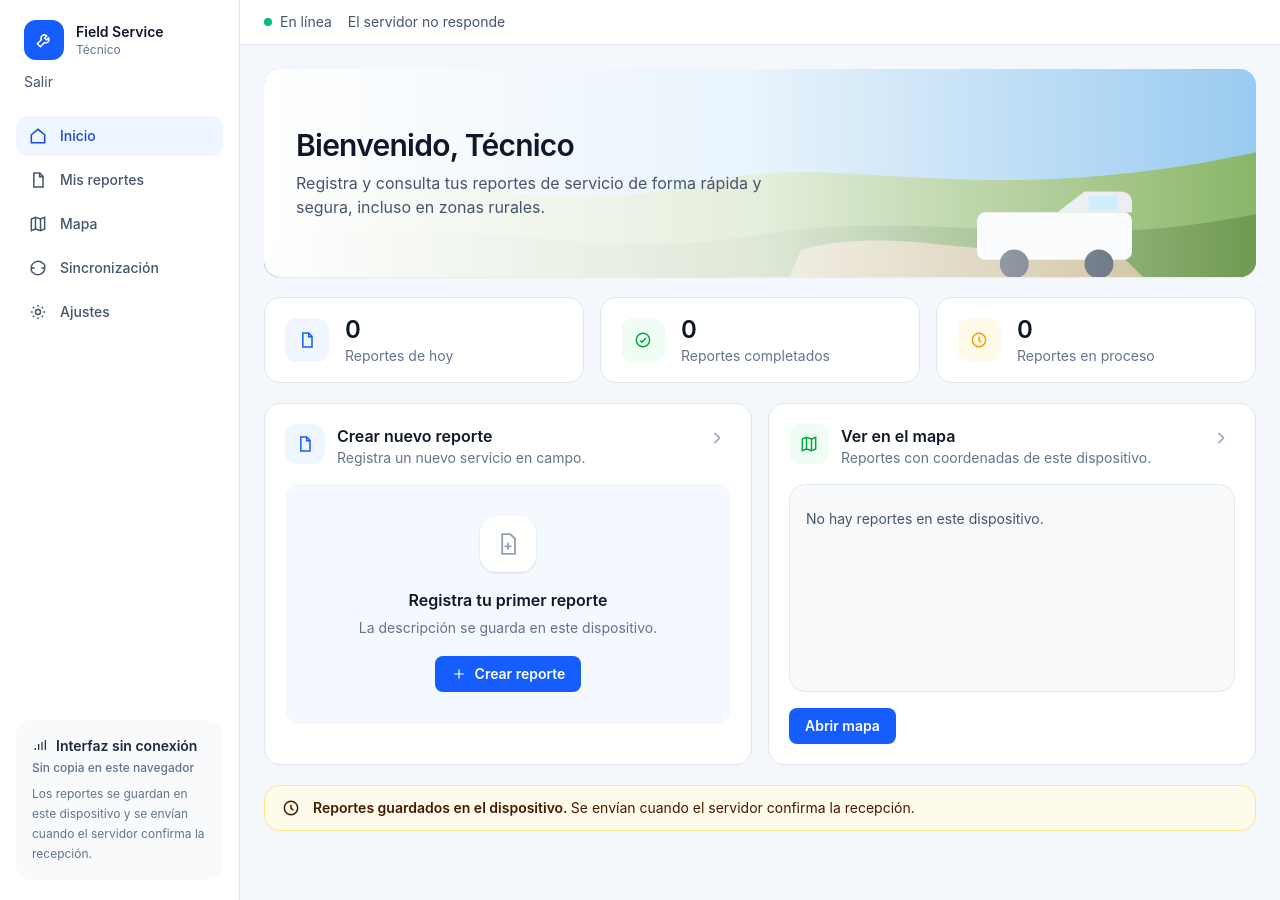
Test: App › abre Mis reportes sin inventar registros
Expected: the heading "Bienvenido, Técnico" is shown, [296,127,574,163]
Click the button "Mis reportes".
click(120, 180)  # box [16,160,223,200]
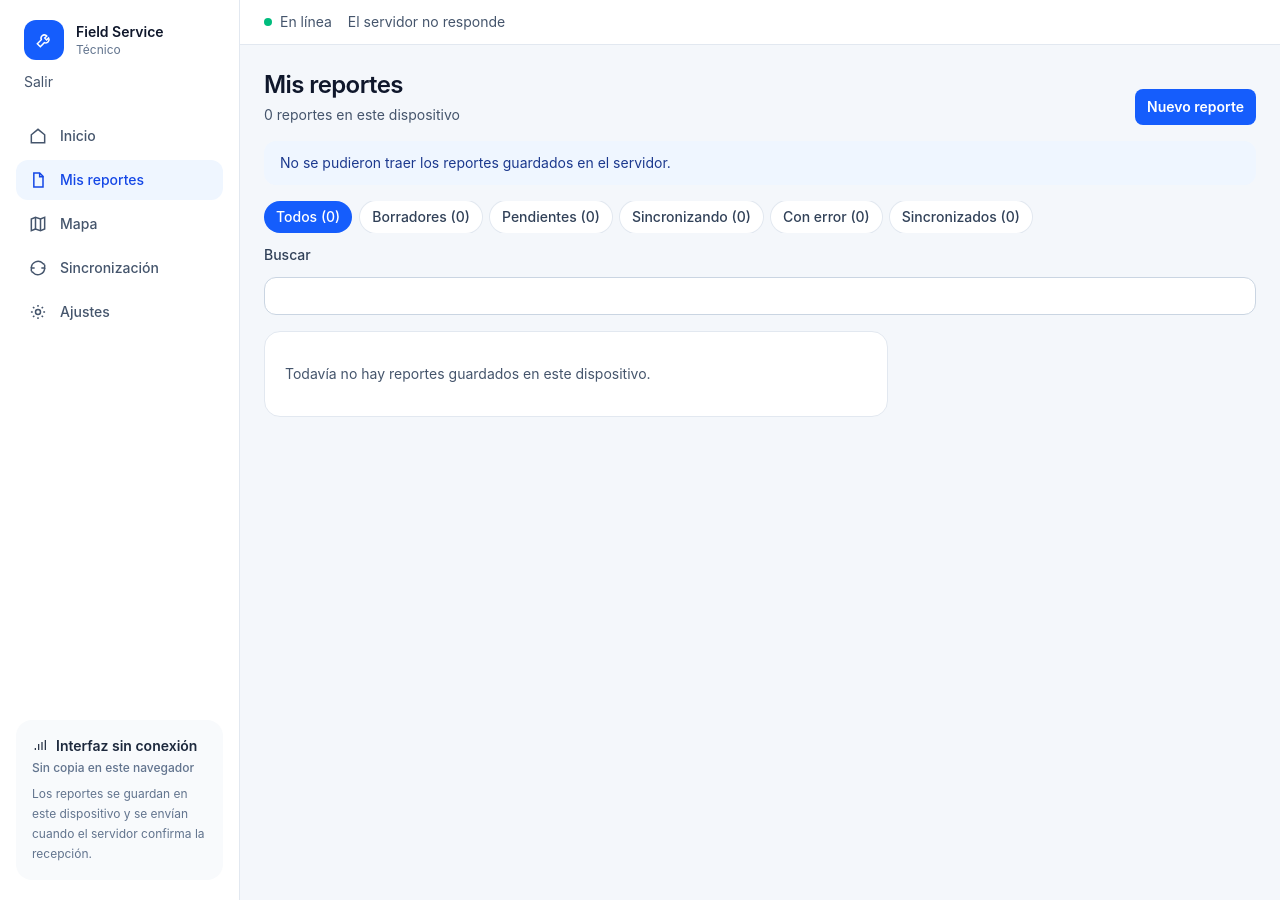
Result: the heading "Mis reportes" is shown at [264,70,403,99]
Result: the text "Todavía no hay reportes guardados en este dispositivo." is shown at [264,331,888,417]
